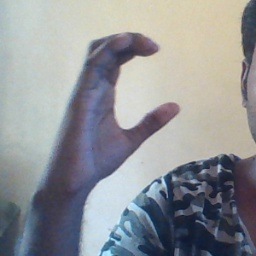C: (77, 25, 184, 150)
